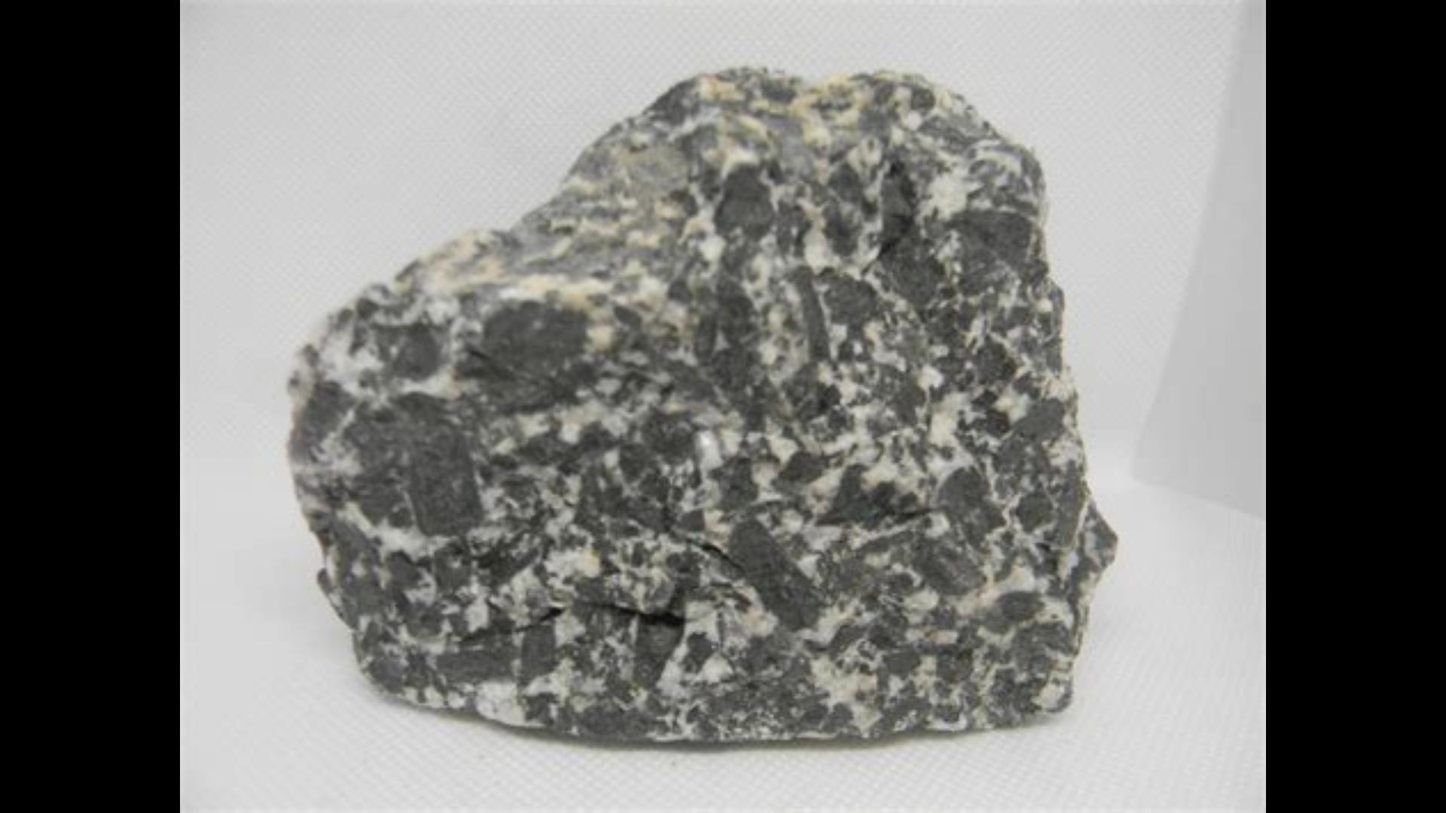rock: (290, 76, 1113, 735)
